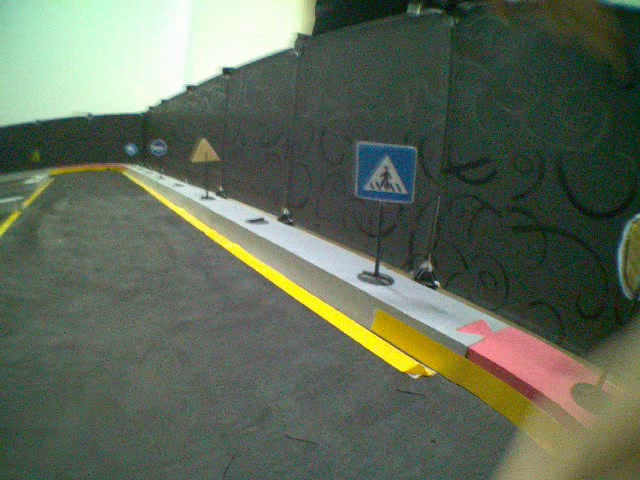crossing: (357, 140, 418, 201)
